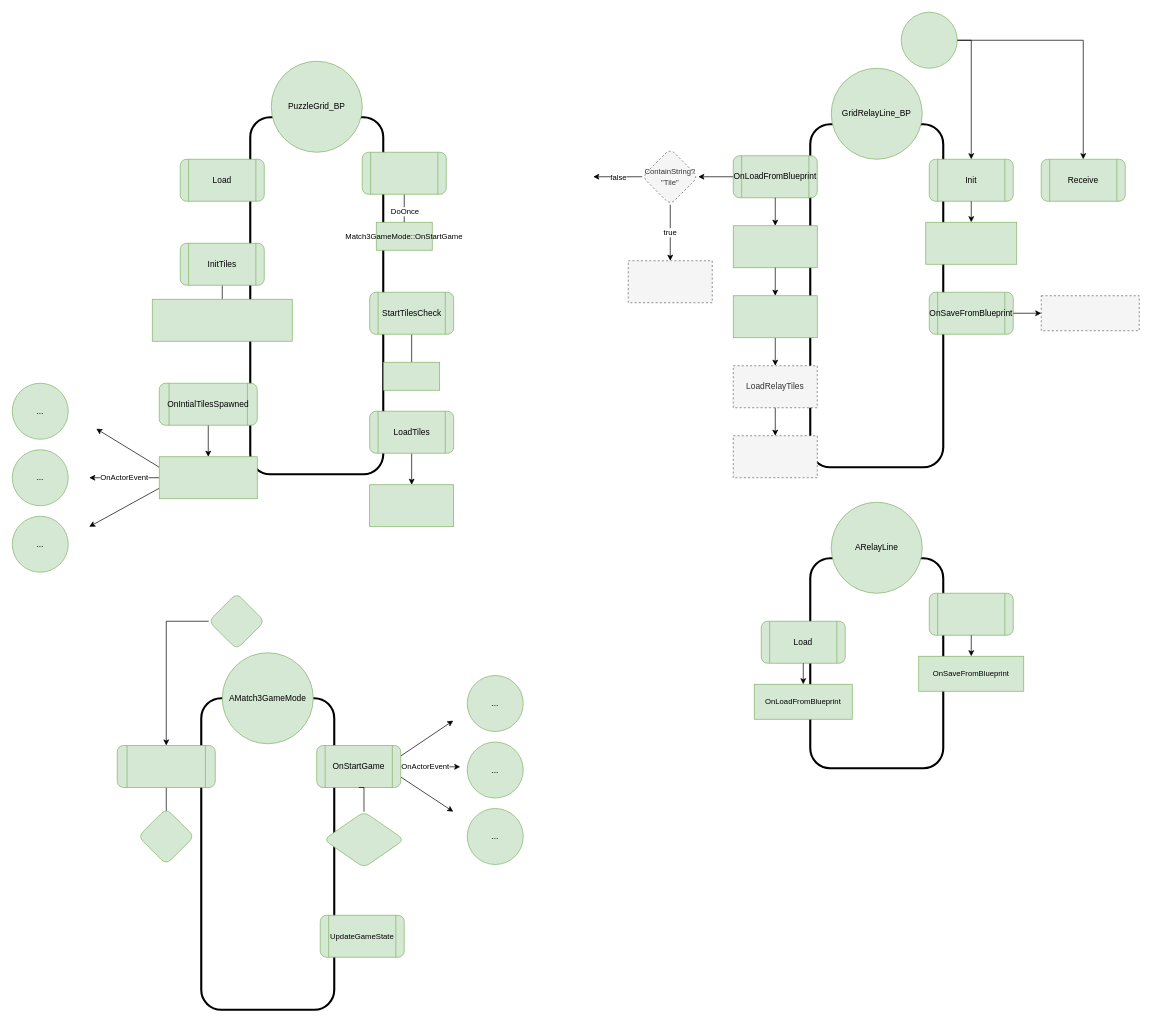
Some shapes in this 1152 by 1023 pixel diagram are drawn without their labels. Here are the shapes that lost their labels. From the top down, the centre of each, then its label:
point (929, 40): OnActorEvent TileArray
point (404, 173): BurstEnd
point (775, 246): Load other data
point (971, 243): OnActorEvent.RemoveDynamic
point (670, 281): Add to TilesInfo
point (222, 320): LoadTiles OnIntialTilesSpawned StartTilesCheck
point (775, 316): FinishLoadFromBlueprint
point (1090, 313): BuildString: "Tile"+int
point (411, 376): ... BurstEnd
point (775, 456): SpawnTile using data set in TilesInfo
point (208, 477): Broadcast an array of tiles
point (411, 505): SpawnTileToPuzzleGrid
point (971, 614): Save
point (363, 839): SaveGame StartState->Start() ...
